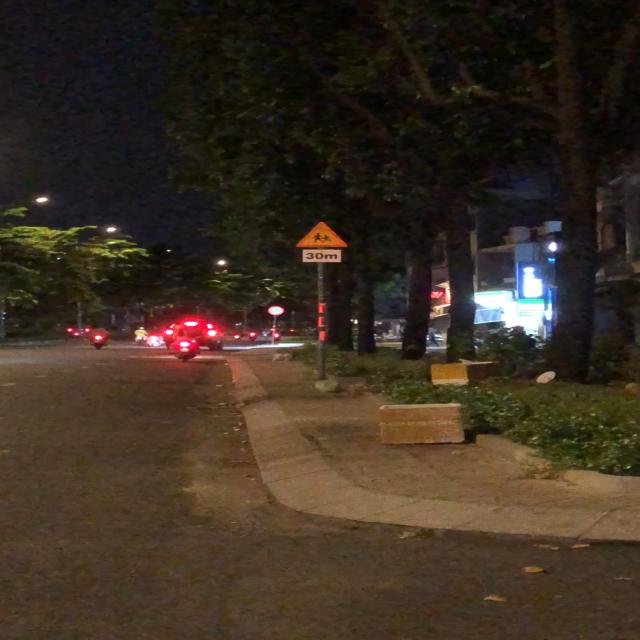Bien bao tre em: (294, 221, 346, 249)
